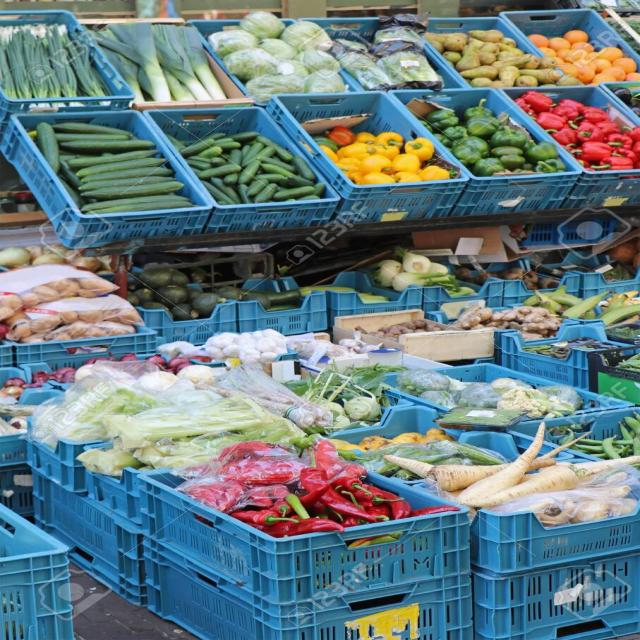basket: (124, 469, 477, 626), (245, 36, 480, 271), (134, 539, 479, 640), (0, 102, 213, 252), (388, 77, 585, 220), (0, 469, 177, 611), (139, 86, 315, 163), (198, 156, 342, 234), (0, 507, 73, 640), (500, 322, 627, 392), (447, 154, 584, 216), (427, 14, 544, 56), (24, 438, 102, 495), (176, 4, 240, 69), (83, 467, 142, 525), (300, 16, 379, 44), (156, 134, 189, 169), (0, 434, 26, 467), (572, 449, 595, 462)
